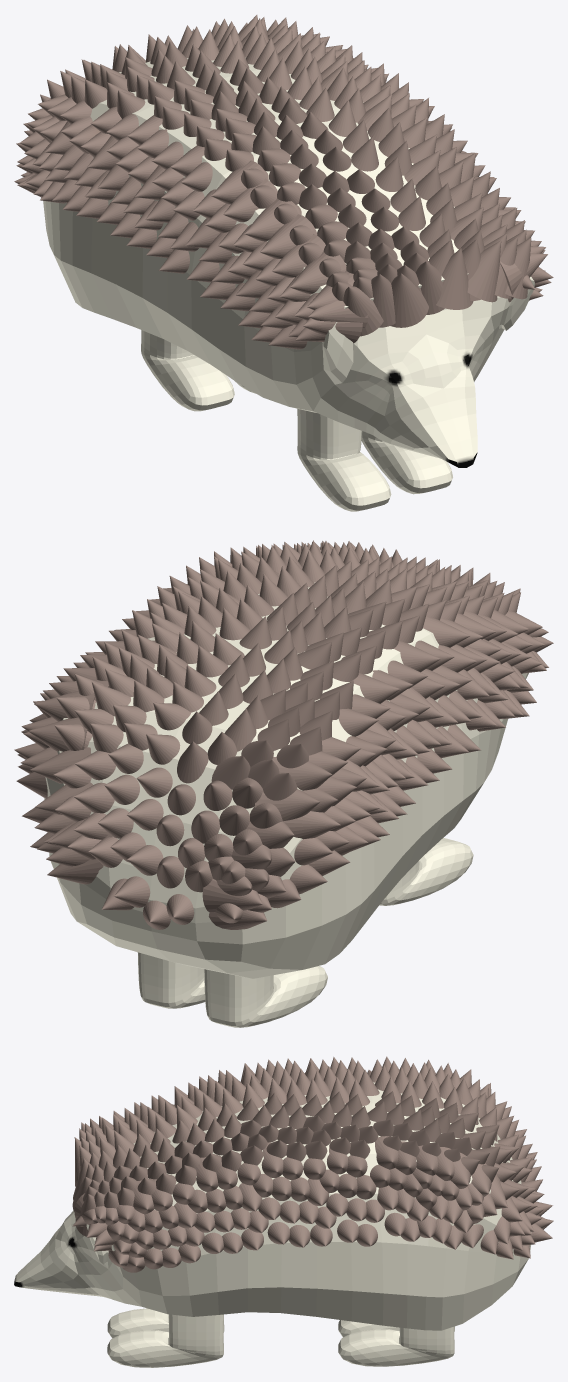
Rendered from hedgehog_model.fbx.
3 renders of one model, top to bottom at view 1: azimuth 30°, elevation 25°; view 2: azimuth 150°, elevation 25°; view 3: azimuth 270°, elevation 25°, orthographic. The views are drawn at different scales.
Visible parts, largest first — view 1: model_hedgehog; view 2: model_hedgehog; view 3: model_hedgehog.
Boxes of the visible parts, box(x1,y1,x2,y2) form: model_hedgehog: box(14, 15, 553, 511); model_hedgehog: box(14, 540, 553, 1027); model_hedgehog: box(14, 1056, 553, 1367).
Size of the model in its own units: 2.47 by 2.45 by 4.39.
Materials: 1 (1 with a texture image).
